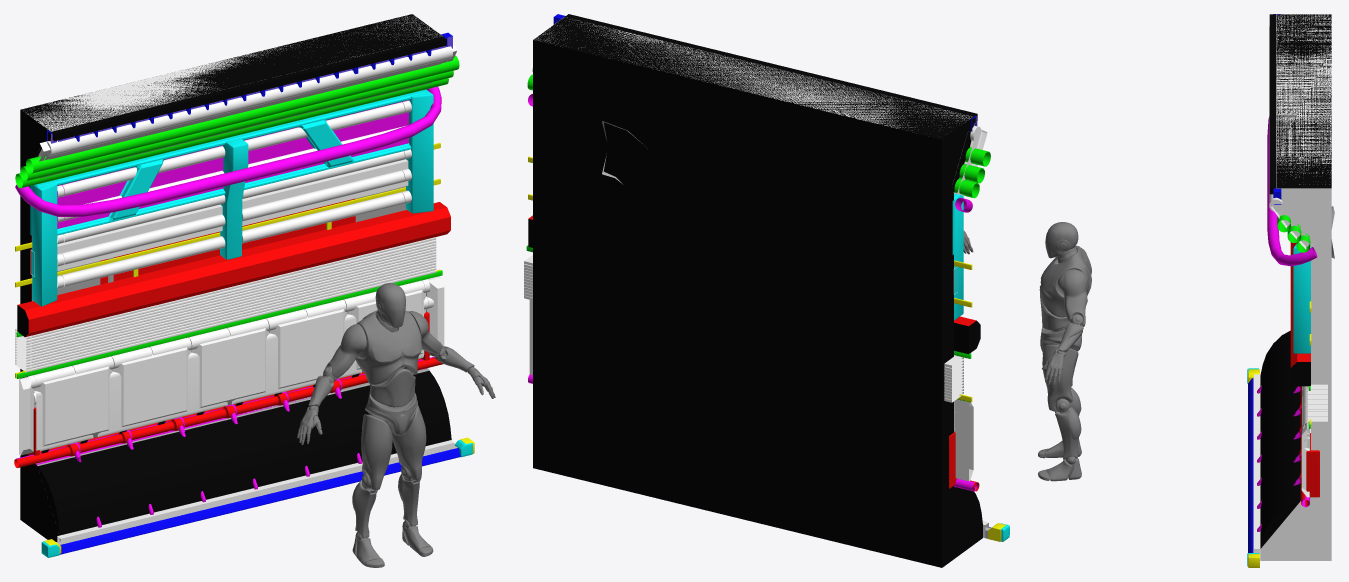
File: Floor_Type_1.fbx
3 views of the same model, side by side, from view 1: azimuth 30°, elevation 25°; view 2: azimuth 150°, elevation 25°; view 3: azimuth 270°, elevation 25° (orthographic). The views are drawn at different scales.
Parts seen in each view (by area): view 1: Base_Wall_Type_1_low, polySurface201, polySurface202, CharacterMesh1, polySurface230, polySurface141, Base_Wall_Type_2_low, polySurface150, polySurface242, polySurface147, pCylinder47, polySurface154 (+5 smaller); view 2: Base_Wall_Type_1_low, polySurface201, polySurface242, polySurface202, Base_Wall_Type_2_low, polySurface141; view 3: Base_Wall_Type_1_low, polySurface242, CharacterMesh1, polySurface201, Base_Wall_Type_2_low, polySurface149, polySurface141, polySurface83, polySurface202, polySurface136.
Part boxes in pixels (box(x1,y1,x2,y2)): Base_Wall_Type_1_low: box(14, 14, 472, 557); polySurface201: box(17, 14, 450, 541); polySurface202: box(19, 276, 444, 455); CharacterMesh1: box(297, 283, 495, 567); polySurface230: box(57, 100, 411, 288); polySurface141: box(15, 237, 436, 372); Base_Wall_Type_2_low: box(16, 89, 474, 553); polySurface150: box(30, 90, 425, 235); polySurface242: box(26, 14, 451, 541); polySurface147: box(30, 159, 408, 276); pCylinder47: box(46, 46, 452, 156); polySurface154: box(34, 300, 423, 451); Base_Wall_Type_1_low: box(527, 14, 1009, 567); polySurface201: box(528, 17, 982, 567); polySurface242: box(534, 17, 972, 130); polySurface202: box(529, 300, 973, 481); Base_Wall_Type_2_low: box(526, 194, 1005, 541); polySurface141: box(524, 255, 963, 402); Base_Wall_Type_1_low: box(1247, 14, 1331, 566); polySurface242: box(1260, 14, 1331, 560); CharacterMesh1: box(1038, 222, 1091, 481); polySurface201: box(1276, 14, 1331, 386); Base_Wall_Type_2_low: box(1248, 243, 1310, 567); polySurface149: box(1254, 374, 1260, 559); polySurface141: box(1307, 384, 1327, 421); polySurface83: box(1306, 433, 1319, 497); polySurface202: box(1301, 386, 1309, 497); polySurface136: box(1271, 198, 1313, 249).
Bounding box in the file's own units: 306 × 280 × 202.
